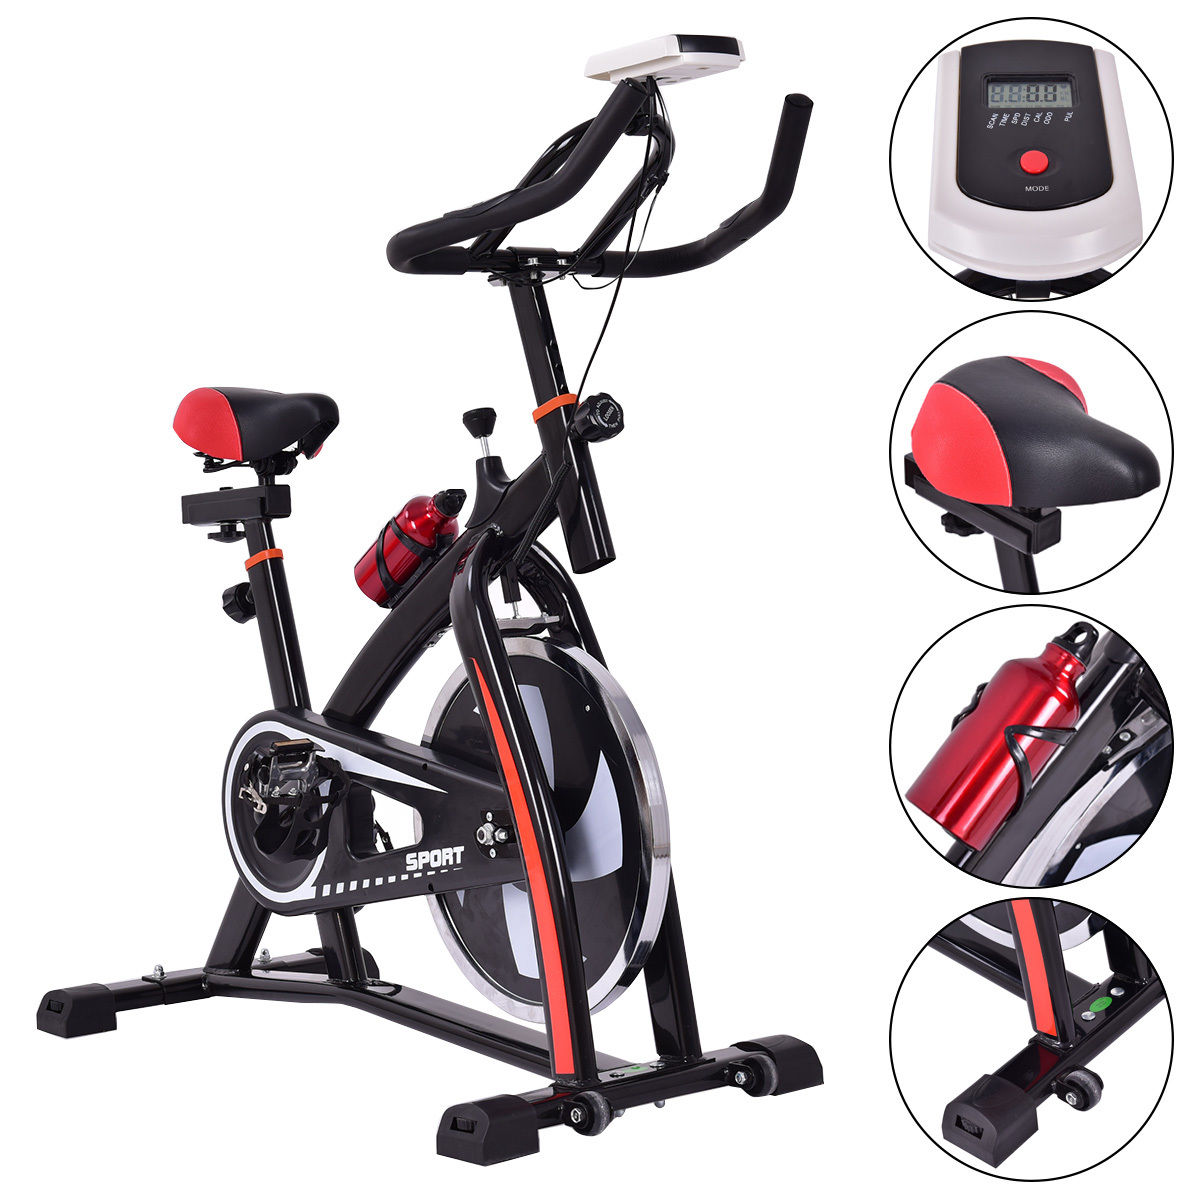gym_bike: (62, 36, 824, 1138)
